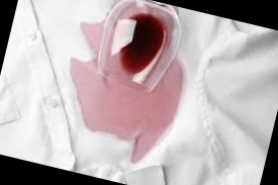wine: (55, 31, 181, 160), (74, 74, 187, 149), (73, 14, 104, 66)
